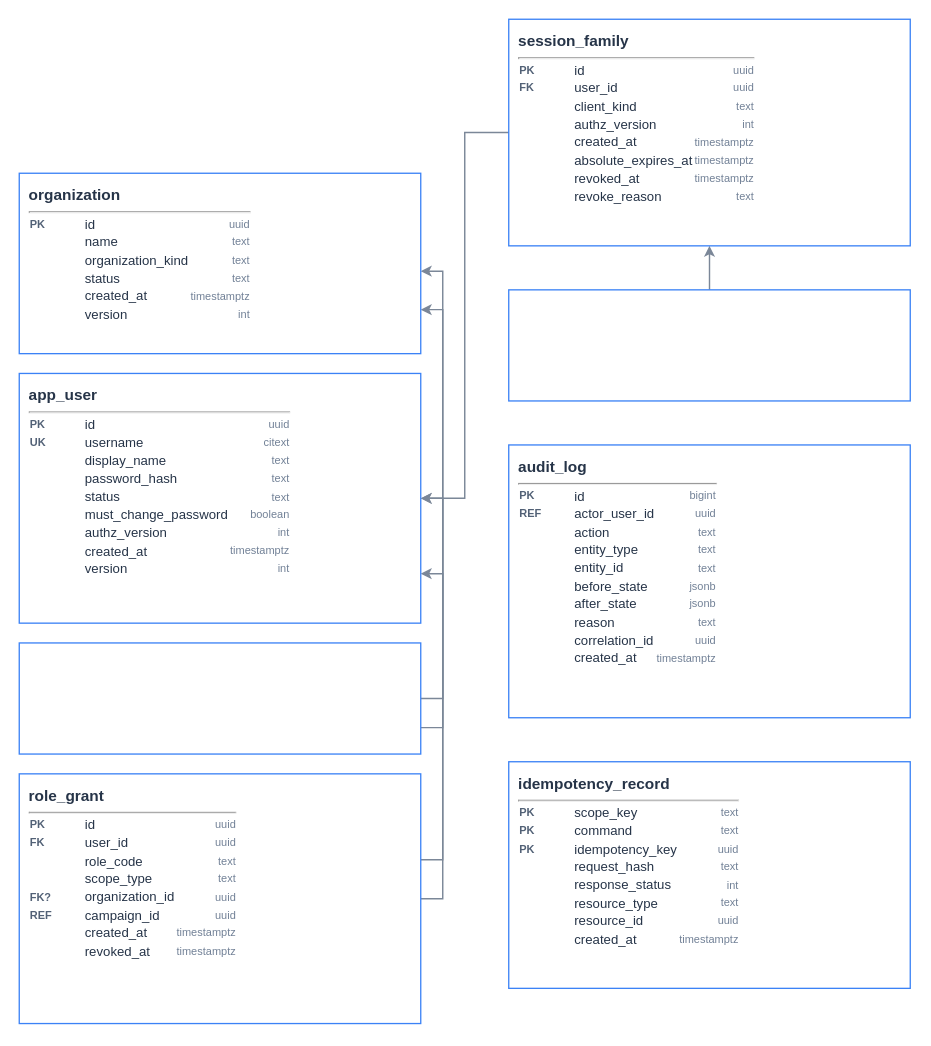
The diagram is 931 pixels wide and 1046 high, and some of its shapes have lost their labels. Here are the shapes that lost their labels. From the top down, the box of each, then its label:
(508, 289, 910, 401): refresh_session PK token_hash text FK family_id uuid rotated_at timestamptz
(18, 642, 421, 754): membership PK FK user_id uuid PK FK organization_id uuid status text
